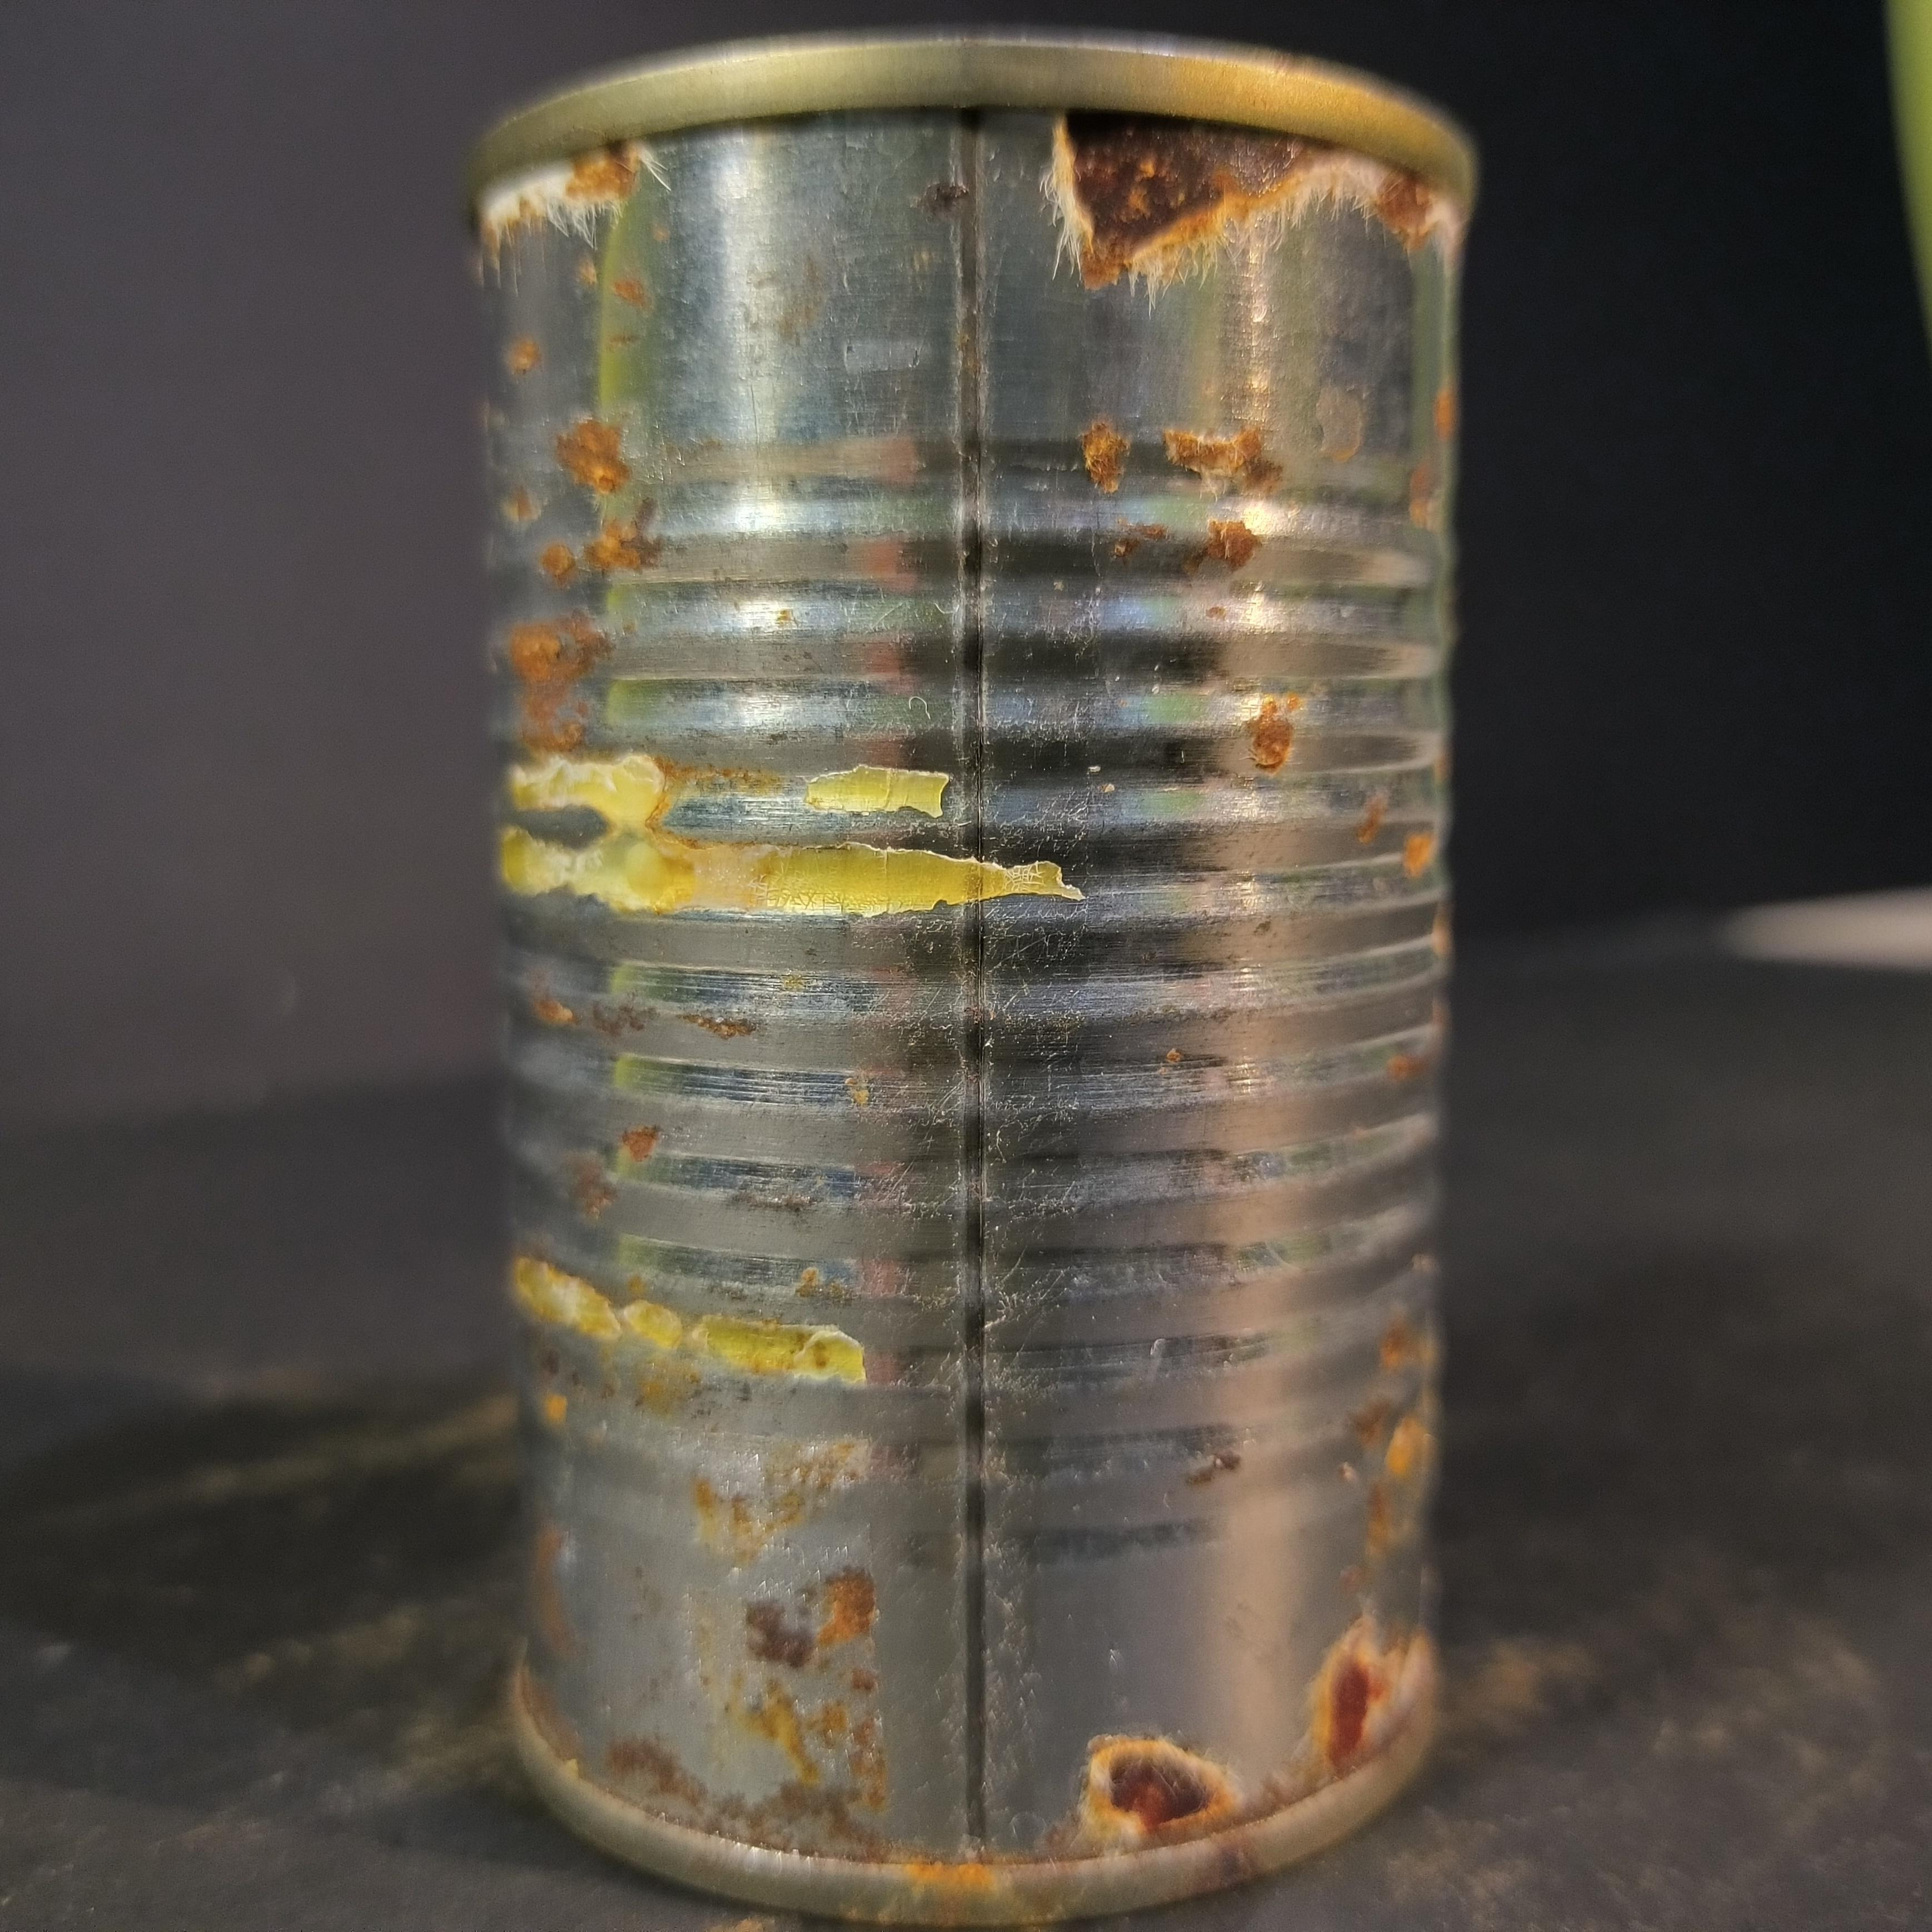Rusted: (423, 4, 1500, 1923)
